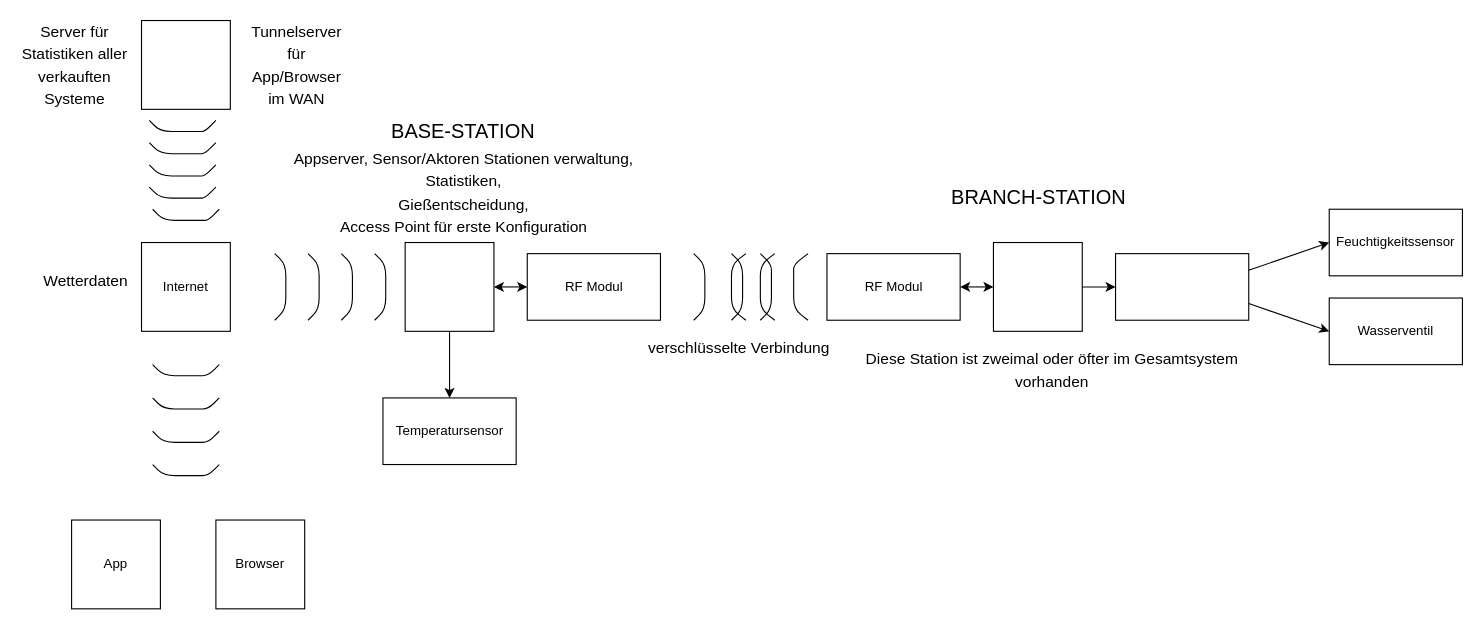
Some shapes in this 1482 by 628 pixel diagram are drawn without their labels. The centre of each missing label's shape, as x and y in pixels:
Raspberry: (449,286)
Server: (185,64)
Wasserfeste Schnittstelle: (1181,286)
µC: (1037,286)
